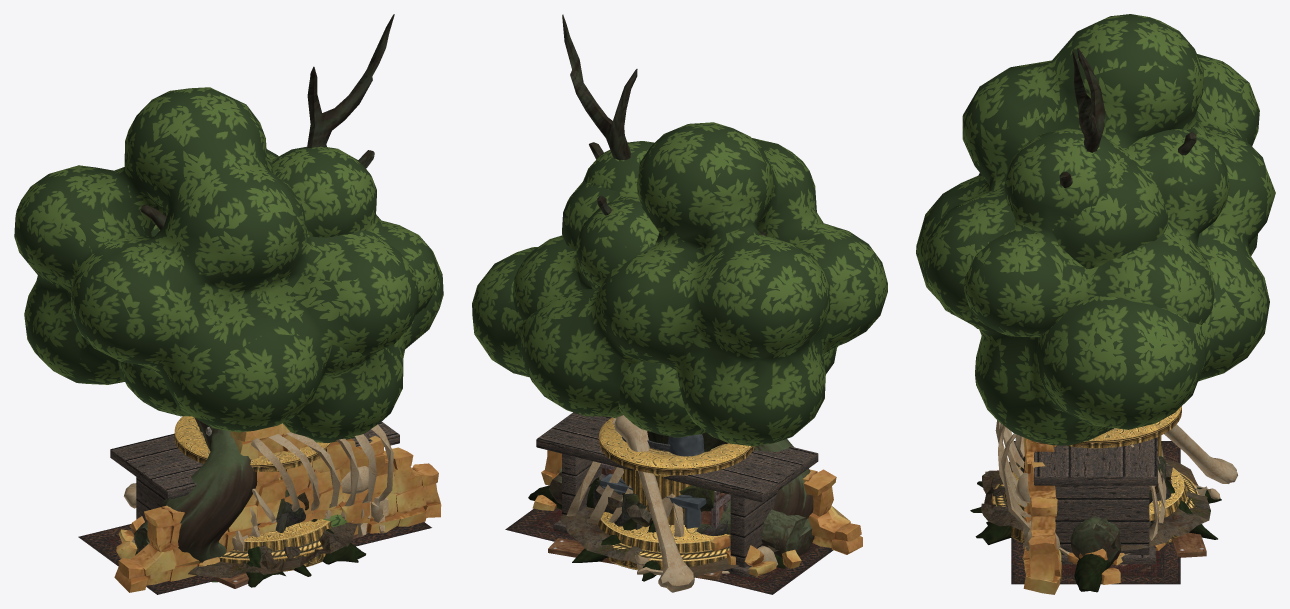
Rendered from props.glb.
The picture shows the model from 3 angles, left to right: view 1: azimuth 30°, elevation 25°; view 2: azimuth 150°, elevation 25°; view 3: azimuth 270°, elevation 25°; orthographic projection. The views are drawn at different scales.
Visible parts, largest first — view 1: forestTree_crown, ruinWall_wall, forestTree2_crown, forestTree_trunk, mapDevice_body, swampTree_body, table_top, ribcage_0, coastRock_body, rug_face, ribcage_1, table (+2 smaller); view 2: forestTree_crown, forestTree2_crown, mapDevice_body, table_top, swampTree_body, table, ruinWall_wall, ribcage_5, rug_face, coastRock_body, mossLog_0, vaalColumn_body (+6 smaller); view 3: forestTree_crown, forestTree2_crown, table, table_top, swampTree_body, ruinWall_wall, coastRock_body, mapDevice_body, rug_face, mossLog_0, ribcage_0, ribcage_5 (+3 smaller).
Part boxes in pixels (bbox=[...]): forestTree_crown: bbox=[14, 87, 443, 443]; ruinWall_wall: bbox=[114, 423, 441, 592]; forestTree2_crown: bbox=[118, 146, 439, 416]; forestTree_trunk: bbox=[159, 418, 257, 562]; mapDevice_body: bbox=[174, 416, 331, 571]; swampTree_body: bbox=[135, 14, 394, 587]; table_top: bbox=[110, 421, 399, 499]; ribcage_0: bbox=[251, 432, 376, 537]; coastRock_body: bbox=[188, 492, 358, 577]; rug_face: bbox=[78, 522, 431, 594]; ribcage_1: bbox=[371, 424, 393, 533]; table: bbox=[128, 477, 165, 534]; forestTree_crown: bbox=[472, 122, 887, 446]; forestTree2_crown: bbox=[512, 141, 837, 437]; mapDevice_body: bbox=[598, 417, 754, 570]; table_top: bbox=[536, 412, 818, 502]; swampTree_body: bbox=[528, 14, 785, 581]; table: bbox=[553, 453, 776, 577]; ruinWall_wall: bbox=[541, 450, 862, 554]; ribcage_5: bbox=[614, 415, 694, 592]; rug_face: bbox=[505, 507, 833, 594]; coastRock_body: bbox=[561, 474, 738, 577]; mossLog_0: bbox=[549, 467, 814, 558]; vaalColumn_body: bbox=[600, 434, 706, 528]; forestTree_crown: bbox=[916, 14, 1275, 445]; forestTree2_crown: bbox=[963, 128, 1229, 337]; table: bbox=[1055, 485, 1155, 564]; table_top: bbox=[1034, 437, 1157, 485]; swampTree_body: bbox=[970, 48, 1221, 592]; ruinWall_wall: bbox=[1023, 437, 1061, 594]; coastRock_body: bbox=[981, 457, 1210, 550]; mapDevice_body: bbox=[991, 406, 1199, 543]; rug_face: bbox=[1011, 441, 1180, 584]; mossLog_0: bbox=[1070, 516, 1121, 562]; ribcage_0: bbox=[995, 420, 1166, 548]; ribcage_5: bbox=[1164, 424, 1237, 483].
Size of the model in its own units: 3.6 by 4.75 by 2.76.
55 materials, 41 textured.
